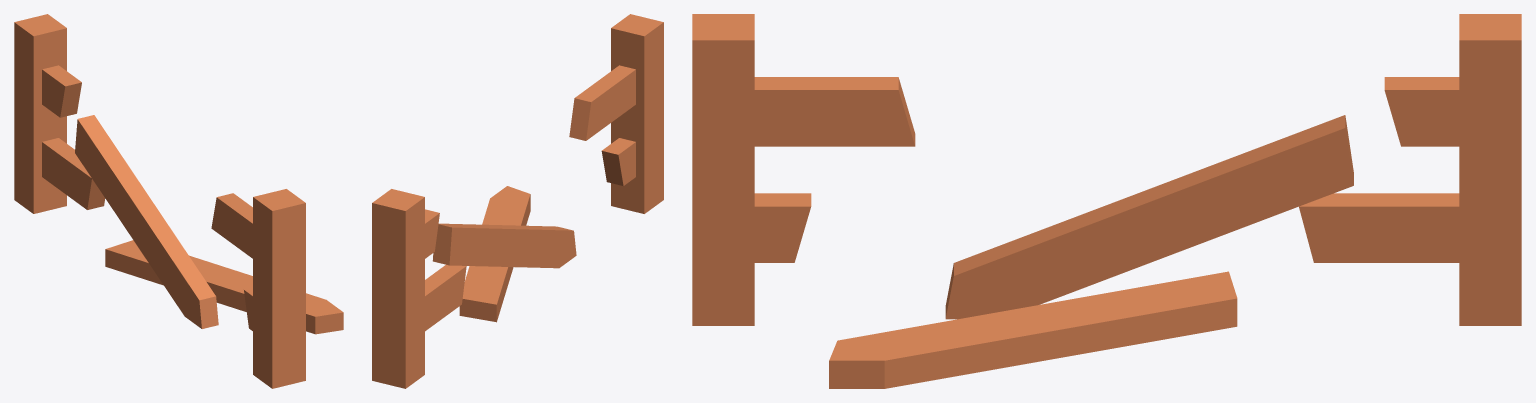
Rendered from d_kenney_cloture_brisee.glb.
3 views of the same model, side by side, from view 1: azimuth 30°, elevation 25°; view 2: azimuth 150°, elevation 25°; view 3: azimuth 270°, elevation 25° (orthographic). The views are drawn at different scales.
Parts seen in each view (by area): view 1: d_kenney_cloture_brisee; view 2: d_kenney_cloture_brisee; view 3: d_kenney_cloture_brisee.
Boxes of the visible parts, bbox=[...] form: d_kenney_cloture_brisee: bbox=[14, 14, 343, 388]; d_kenney_cloture_brisee: bbox=[372, 14, 663, 388]; d_kenney_cloture_brisee: bbox=[692, 14, 1521, 388].
Bounding box in the file's own units: 0.2548 × 0.38 × 1.
1 material, 1 textured.
